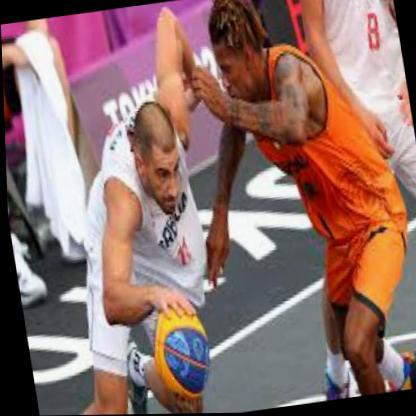basketball: (147, 303, 213, 403)
